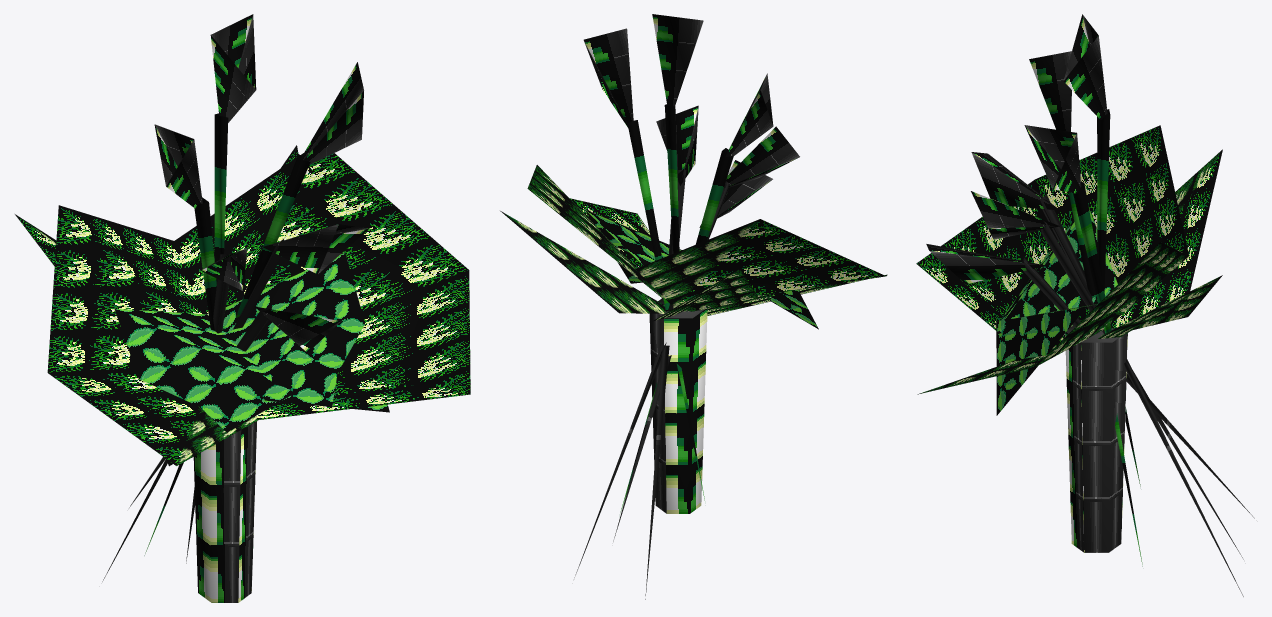
3 views of the same model, side by side, from view 1: azimuth 30°, elevation 25°; view 2: azimuth 150°, elevation 25°; view 3: azimuth 270°, elevation 25° (orthographic). The views are drawn at different scales.
Visible parts, largest first — view 1: 3370kg_sh2_11; view 2: 3370kg_sh2_11; view 3: 3370kg_sh2_11.
Boxes of the visible parts, x1,y1,x2,y2 form: 3370kg_sh2_11: (15, 14, 470, 602); 3370kg_sh2_11: (500, 14, 887, 599); 3370kg_sh2_11: (916, 14, 1254, 596).
Bounding box in the file's own units: 1.18 × 1.64 × 0.9053.
3 materials, 3 textured.
